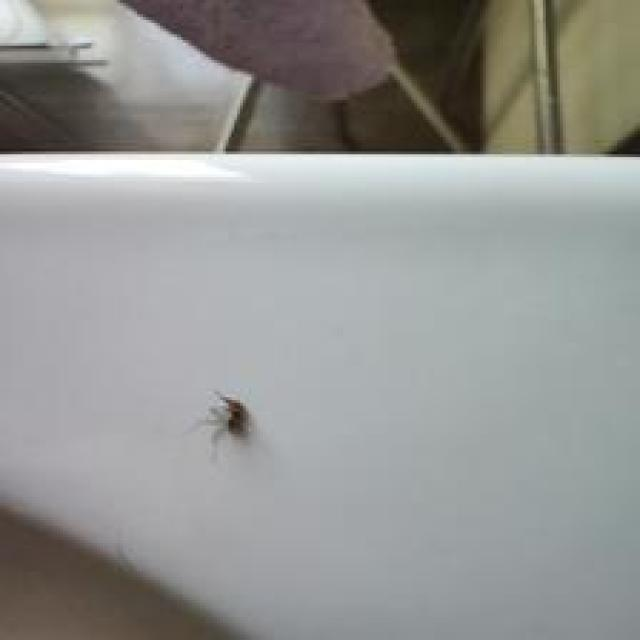Culex: (200, 389, 254, 454)
